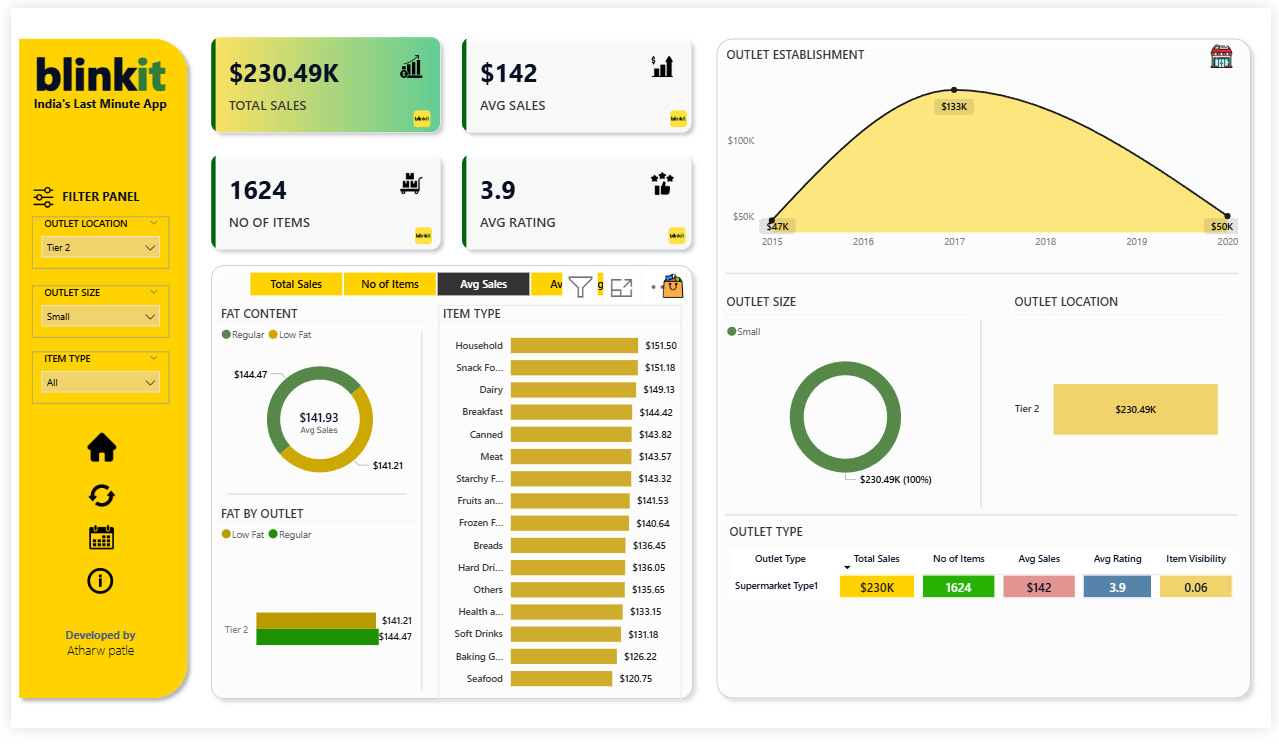

The page's visual inventory and layout, read from the dashboard file:
{"tool":"powerbi","page":{"name":"Home","canvas":[1400,800],"ordinal":0},"visuals":[{"type":"shape","box":[0,25.3,205,750.7],"z":0},{"type":"textbox","box":[0,33,198.1,82.1],"z":1000},{"type":"cardVisual","fields":{"Data":["BlinkIT Grocery Data.Total Sum Sales","BlinkIT Grocery Data.Average Sales","BlinkIT Grocery Data.No of Items","BlinkIT Grocery Data.Avg Rating"]},"box":[204.8,15.8,569.7,270.8],"z":2000},{"type":"image","box":[71.4,466.3,58.7,42.6],"z":3000},{"type":"image","box":[74.4,521.1,52.1,39.7],"z":4000},{"type":"image","box":[81.8,568.8,38,39.1],"z":5000},{"type":"shape","box":[774.5,25.5,611.7,751.1],"z":6000},{"type":"areaChart","title":"OUTLET ESTABLISHMENT","fields":{"Y":["BlinkIT Grocery Data.Total Sum Sales"],"Category":["BlinkIT Grocery Data.Outlet Establishment Year2"]},"box":[790.6,42.5,578.3,234],"z":7000},{"type":"textbox","box":[0,89.6,198.1,34],"z":8000},{"type":"donutChart","title":"OUTLET SIZE","fields":{"Category":["BlinkIT Grocery Data.Outlet Size"],"Y":["BlinkIT Grocery Data.Total Sum Sales"]},"box":[790.6,316,273.6,224.5],"z":9000},{"type":"funnel","title":"OUTLET LOCATION","fields":{"Category":["BlinkIT Grocery Data.Outlet Location Type"],"Y":["BlinkIT Grocery Data.Total Sum Sales"]},"box":[1110.4,316,240.6,234],"z":10000},{"type":"pivotTable","title":"OUTLET TYPE","fields":{"Rows":["BlinkIT Grocery Data.Outlet Type"],"Values":["BlinkIT Grocery Data.Total Sum Sales","BlinkIT Grocery Data.No of Items","BlinkIT Grocery Data.Average Sales","BlinkIT Grocery Data.Avg Rating","Avg(BlinkIT Grocery Data.Item Visibility)"]},"box":[793.6,572.3,578.7,197.1],"z":11000},{"type":"shape","box":[793.4,284.9,570.8,19.8],"z":12000},{"type":"shape","box":[1064.2,346.2,29.2,208.5],"z":13000},{"type":"shape","box":[212.8,276.6,553.2,500],"z":14000},{"type":"donutChart","title":"FAT CONTENT","fields":{"Y":["BlinkIT Grocery Data.Average Sales"],"Category":["BlinkIT Grocery Data.Item Fat Content"]},"box":[228.3,330.2,229.2,213.2],"z":15000},{"type":"shape","box":[793.4,553.8,570.8,19.8],"z":16000},{"type":"cardVisual","fields":{"Data":["BlinkIT Grocery Data.Average Sales"]},"box":[291.9,428.1,102,54.5],"z":17000},{"type":"slicer","fields":{"Values":["Metric.Metric"]},"box":[240,287.5,464.2,39.6],"z":18000},{"type":"barChart","title":"ITEM TYPE","fields":{"Y":["BlinkIT Grocery Data.Average Sales"],"Category":["BlinkIT Grocery Data.Item Type"]},"box":[475.3,330.2,269.8,438.1],"z":19000},{"type":"shape","box":[442.5,360.4,29.2,399.1],"z":20000},{"type":"clusteredBarChart","title":"FAT BY OUTLET","fields":{"Y":["BlinkIT Grocery Data.Average Sales"],"Category":["BlinkIT Grocery Data.Outlet Location Type"],"Series":["BlinkIT Grocery Data.Item Fat Content"]},"box":[228.3,550.9,221.7,229.2],"z":21000},{"type":"shape","box":[239.6,529.2,200,19.8],"z":22000},{"type":"image","box":[725.5,108.5,33,29.2],"z":23000},{"type":"image","box":[723.6,237.7,33,29.2],"z":24000},{"type":"image","box":[442.5,237.7,33,29.2],"z":25000},{"type":"image","box":[440.6,108.5,33,29.2],"z":26000},{"type":"image","box":[715.6,289.2,41.3,36.9],"z":27000},{"type":"image","box":[1327.5,33.4,36,40.4],"z":28000},{"type":"slicer","fields":{"Values":["BlinkIT Grocery Data.Outlet Location Type"]},"box":[23.7,231.2,153,58],"z":29000},{"type":"slicer","fields":{"Values":["BlinkIT Grocery Data.Outlet Size"]},"box":[23.7,307.7,153,58],"z":30000},{"type":"slicer","fields":{"Values":["BlinkIT Grocery Data.Item Type"]},"box":[23.7,382.4,153,58],"z":31000},{"type":"textbox","box":[36.8,193.4,126.4,31.1],"z":32000},{"type":"image","box":[18.9,184,34.9,53.8],"z":33000},{"type":"textbox","box":[36.8,680.5,125.5,28.8],"z":34000},{"type":"textbox","box":[36.8,697.8,125.5,28.8],"z":35000},{"type":"image","box":[15,726.5,59.9,39.1],"z":36000},{"type":"textbox","box":[51.8,730,125.5,28.8],"z":37000},{"type":"actionButton","box":[80.6,616.6,38.5,39.7],"z":38000}]}

Visuals, with their boxes in screenshot pixels (x1, y1, x2, y2), scaled from the page's 1400x800 canvas onto the 1279x744 screenshot:
shape: detection(0, 24, 187, 722)
textbox: detection(0, 31, 181, 107)
cardVisual - BlinkIT Grocery Data.Total Sum Sales x BlinkIT Grocery Data.Average Sales: detection(187, 15, 708, 267)
image: detection(65, 434, 119, 473)
image: detection(68, 485, 116, 522)
image: detection(75, 529, 109, 565)
shape: detection(708, 24, 1266, 722)
"OUTLET ESTABLISHMENT" areaChart: detection(722, 40, 1251, 257)
textbox: detection(0, 83, 181, 115)
"OUTLET SIZE" donutChart: detection(722, 294, 972, 503)
"OUTLET LOCATION" funnel: detection(1014, 294, 1234, 512)
"OUTLET TYPE" pivotTable: detection(725, 532, 1254, 716)
shape: detection(725, 265, 1246, 283)
shape: detection(972, 322, 999, 516)
shape: detection(194, 257, 700, 722)
"FAT CONTENT" donutChart: detection(209, 307, 418, 505)
shape: detection(725, 515, 1246, 533)
cardVisual - BlinkIT Grocery Data.Average Sales: detection(267, 398, 360, 449)
slicer - Metric.Metric: detection(219, 267, 643, 304)
"ITEM TYPE" barChart: detection(434, 307, 681, 715)
shape: detection(404, 335, 431, 706)
"FAT BY OUTLET" clusteredBarChart: detection(209, 512, 411, 725)
shape: detection(219, 492, 402, 511)
image: detection(663, 101, 693, 128)
image: detection(661, 221, 691, 248)
image: detection(404, 221, 434, 248)
image: detection(403, 101, 433, 128)
image: detection(654, 269, 691, 303)
image: detection(1213, 31, 1246, 69)
slicer - BlinkIT Grocery Data.Outlet Location Type: detection(22, 215, 161, 269)
slicer - BlinkIT Grocery Data.Outlet Size: detection(22, 286, 161, 340)
slicer - BlinkIT Grocery Data.Item Type: detection(22, 356, 161, 410)
textbox: detection(34, 180, 149, 209)
image: detection(17, 171, 49, 221)
textbox: detection(34, 633, 148, 660)
textbox: detection(34, 649, 148, 676)
image: detection(14, 676, 68, 712)
textbox: detection(47, 679, 162, 706)
actionButton: detection(74, 573, 109, 610)
